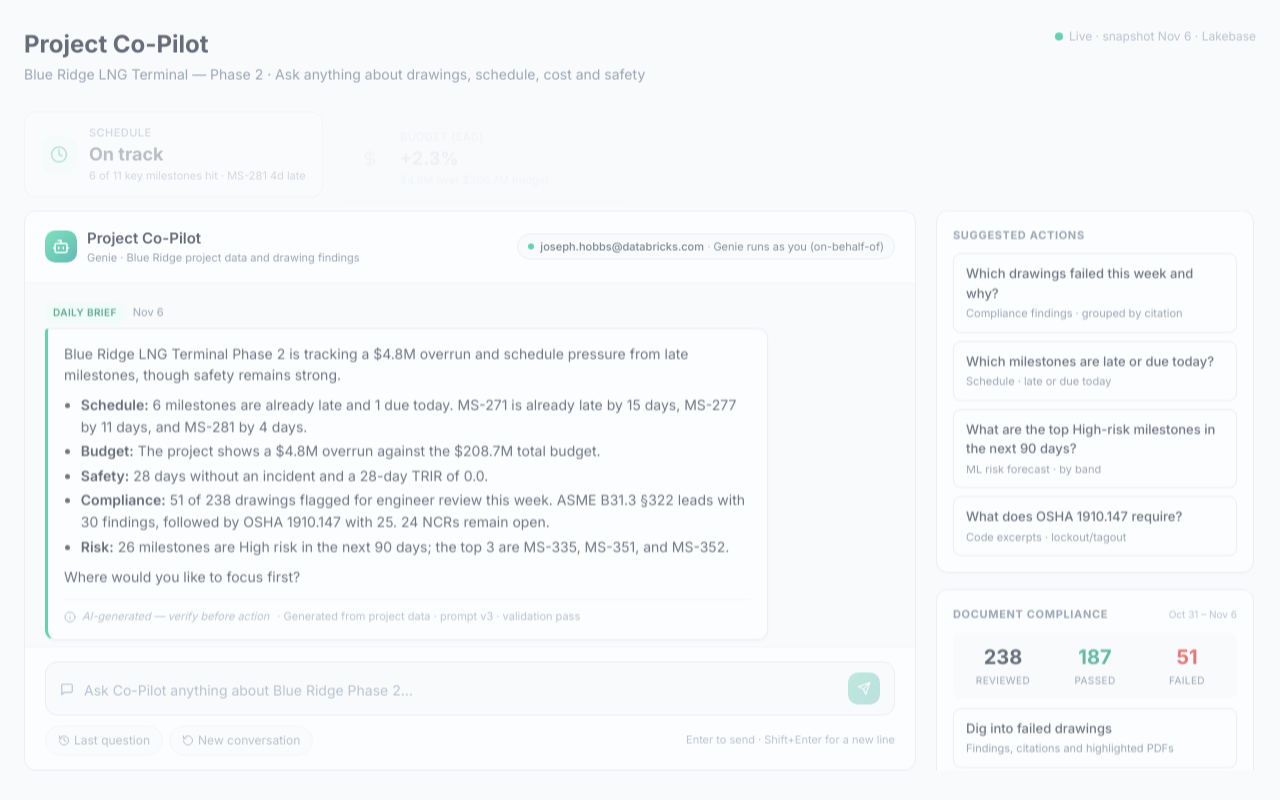
Test: CopilotPage › a Suggested Action sends its pre-filled prompt
The image size is (1280, 800).
Click the button "Which milestones are late or due today?" at [1095, 371], box x1=953 y1=341 x2=1237 y2=401
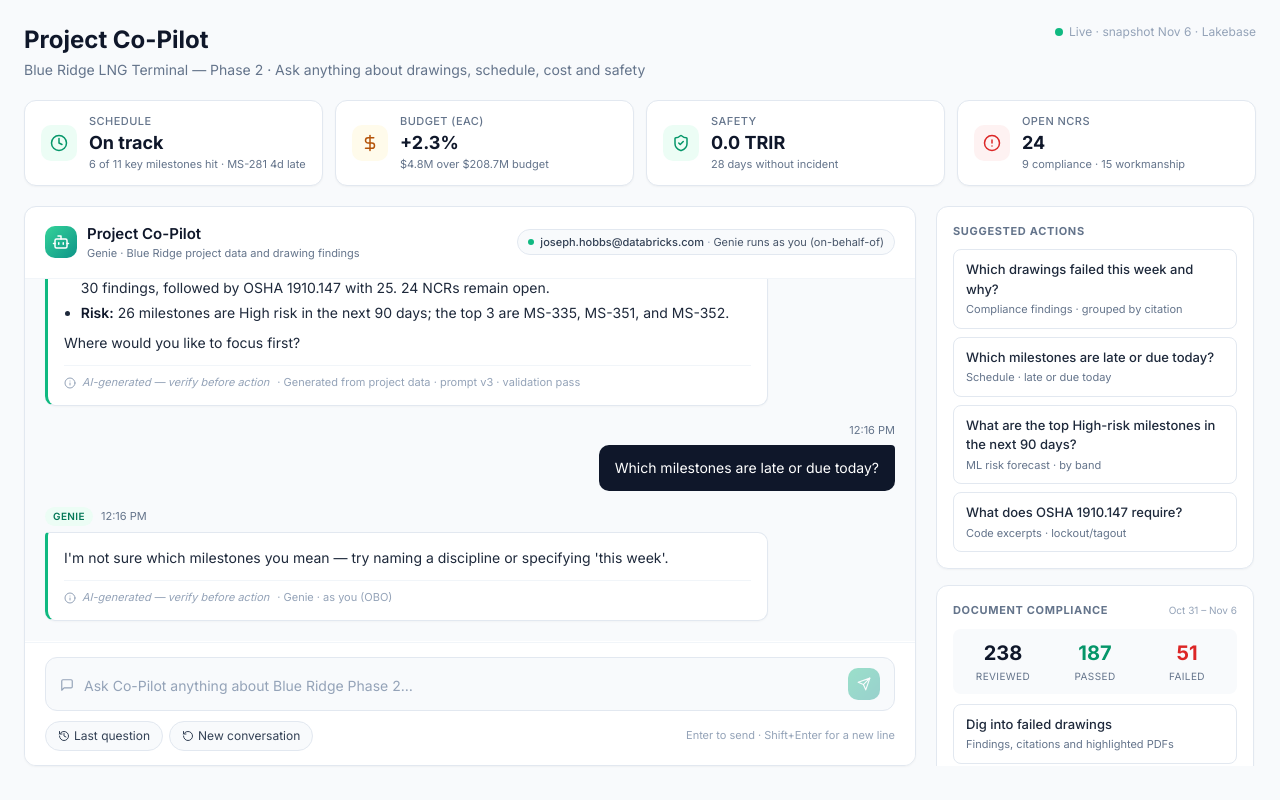
Result: the text "Which milestones are late or due today?" is shown at x1=599 y1=445 x2=895 y2=491
